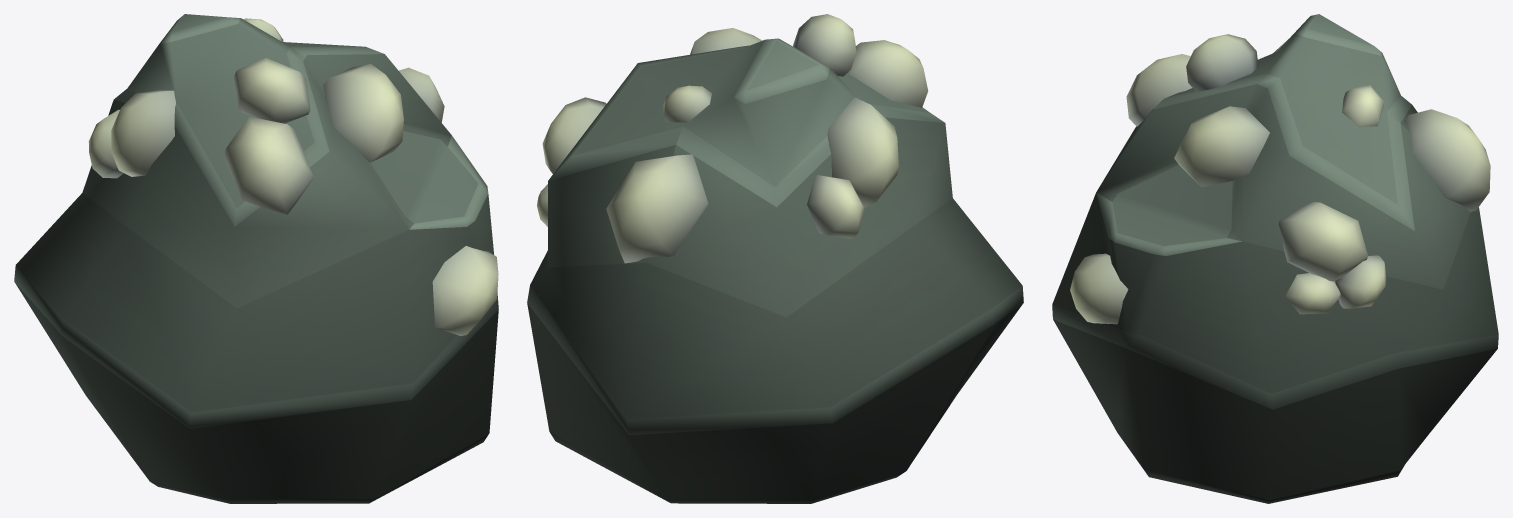
Rendered from ore_nuggets_iron_L.fbx.
3 renders of one model, left to right at view 1: azimuth 30°, elevation 25°; view 2: azimuth 150°, elevation 25°; view 3: azimuth 270°, elevation 25°, orthographic. The views are drawn at different scales.
Visible parts, largest first — view 1: ore_nuggets_iron_L; view 2: ore_nuggets_iron_L; view 3: ore_nuggets_iron_L.
Boxes of the visible parts, left/top/right/bottom form: ore_nuggets_iron_L: left=14, top=14, right=498, bottom=503; ore_nuggets_iron_L: left=527, top=14, right=1023, bottom=503; ore_nuggets_iron_L: left=1052, top=14, right=1498, bottom=503.
Size of the model in its own units: 211 by 220 by 204.
Materials: 1 (1 with a texture image).
